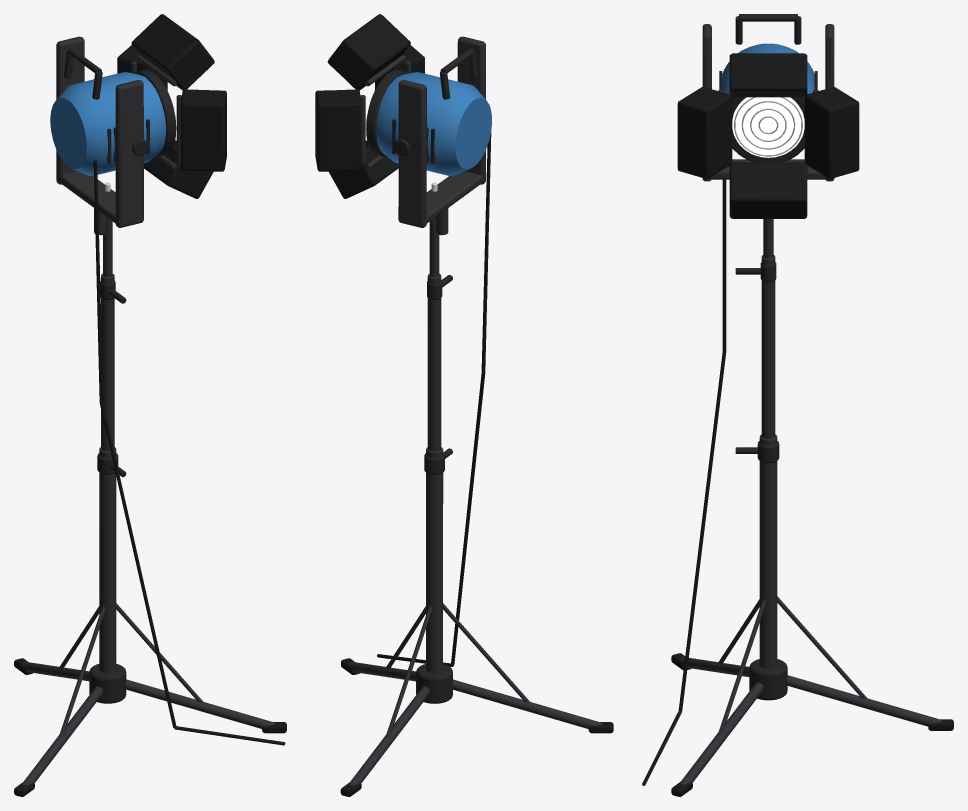
The model's file is fresnel_arri_650.glb.
3 renders of one model, left to right at view 1: azimuth 30°, elevation 25°; view 2: azimuth 150°, elevation 25°; view 3: azimuth 270°, elevation 25°, orthographic. The views are drawn at different scales.
Visible parts, largest first — view 1: ARRI 650 Plus en pie de luz; view 2: ARRI 650 Plus en pie de luz; view 3: ARRI 650 Plus en pie de luz.
Part boxes in pixels (x1,y1,x2,y2): ARRI 650 Plus en pie de luz: (14, 14, 286, 796); ARRI 650 Plus en pie de luz: (315, 14, 613, 796); ARRI 650 Plus en pie de luz: (642, 14, 953, 796).
Bounding box in the file's own units: 0.8857 × 2.14 × 0.8491.
